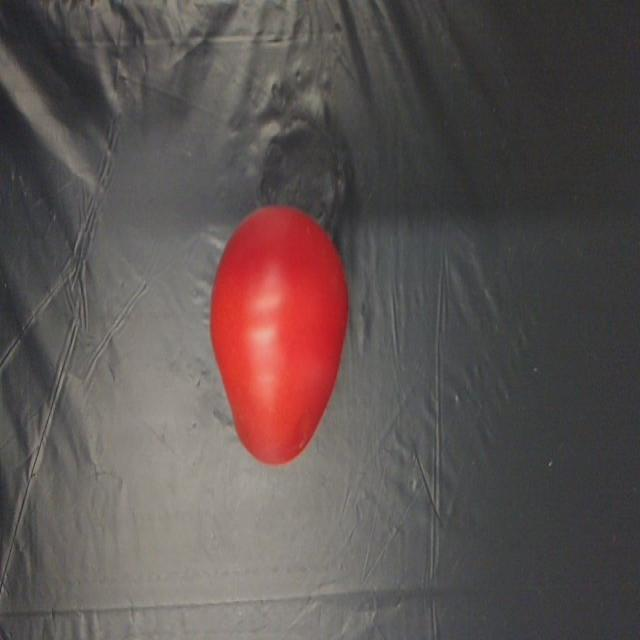kirmizi: (197, 198, 344, 488)
